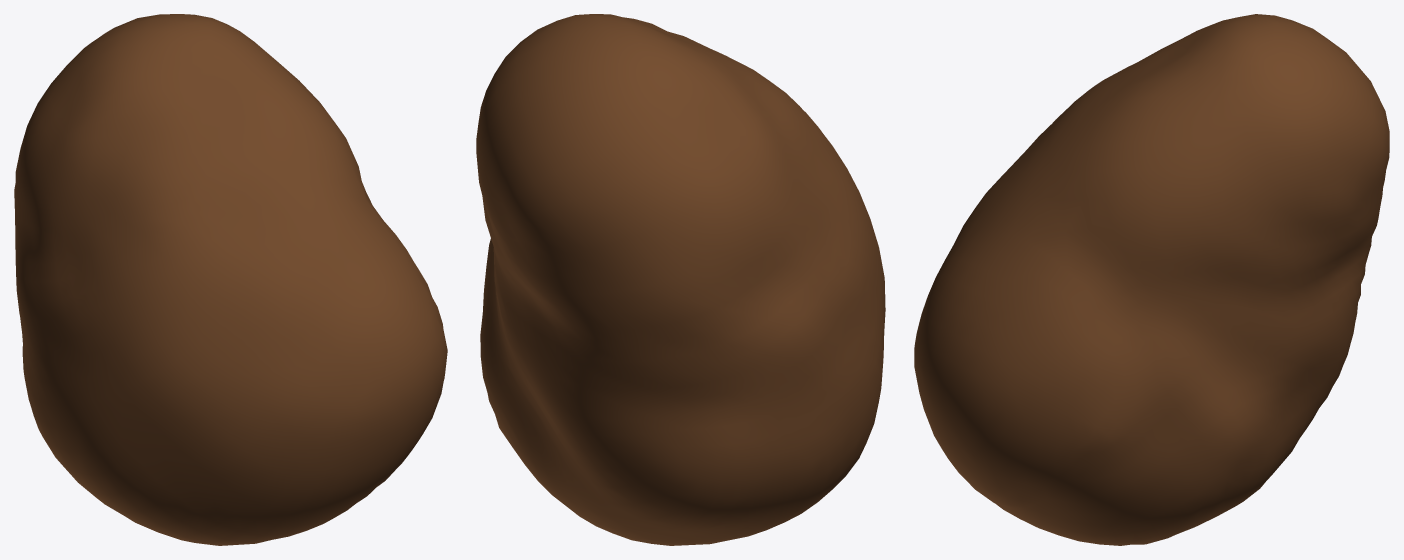
The model's file is stone4.fbx.
The picture shows the model from 3 angles, left to right: view 1: azimuth 30°, elevation 25°; view 2: azimuth 150°, elevation 25°; view 3: azimuth 270°, elevation 25°; orthographic projection. The views are drawn at different scales.
Parts seen in each view (by area): view 1: rock.003; view 2: rock.003; view 3: rock.003.
Part boxes in pixels (<box>): rock.003: <box>14,14,447,545</box>; rock.003: <box>476,14,885,545</box>; rock.003: <box>914,14,1389,545</box>.
Size of the model in its own units: 79.96 by 107 by 91.79.
